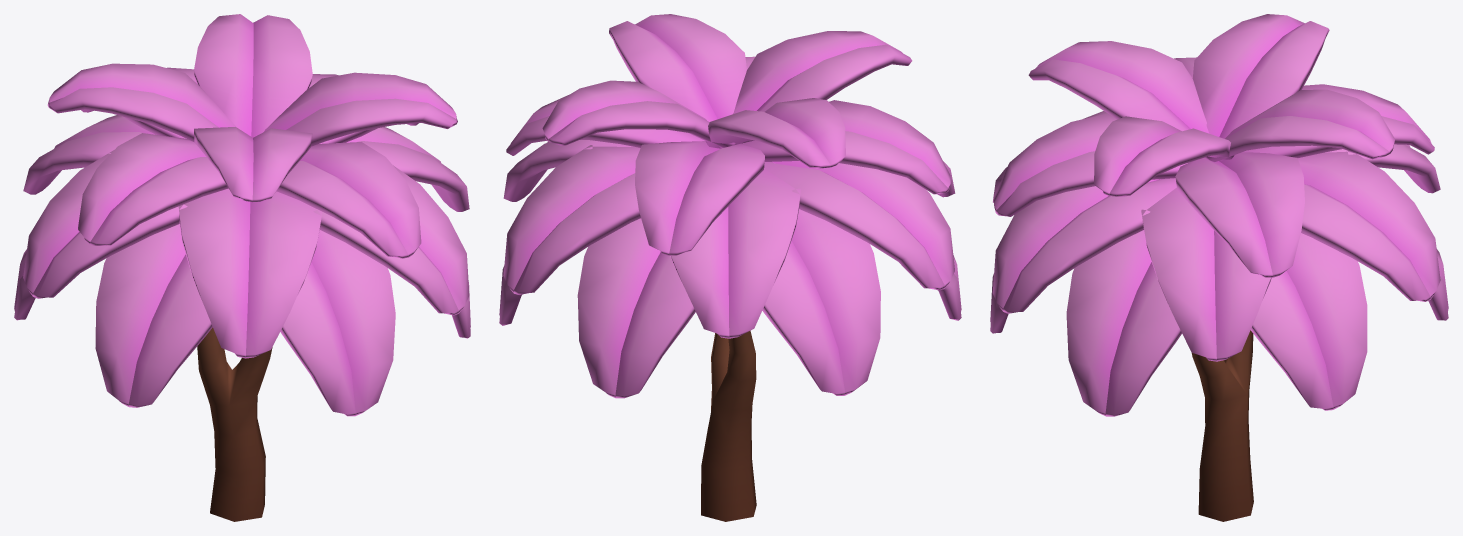
File: Tree_01.glb
The picture shows the model from 3 angles, left to right: view 1: azimuth 30°, elevation 25°; view 2: azimuth 150°, elevation 25°; view 3: azimuth 270°, elevation 25°; orthographic projection.
Parts seen in each view (by area): view 1: Tree_01; view 2: Tree_01; view 3: Tree_01.
Part boxes in pixels (left/top/right/bottom): Tree_01: left=14, top=14, right=470, bottom=521; Tree_01: left=499, top=14, right=961, bottom=521; Tree_01: left=990, top=14, right=1448, bottom=521.
Size of the model in its own units: 12.05 by 11.67 by 11.16.
1 material, 1 textured.
